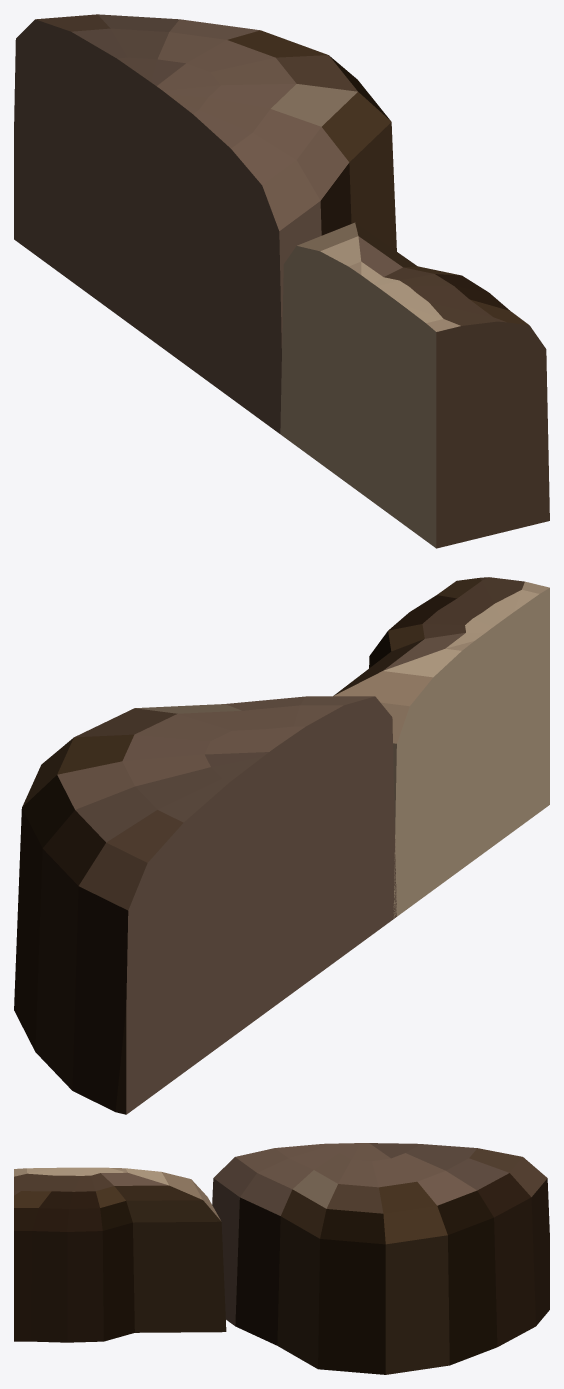
The model's file is newshr-157.glb.
3 renders of one model, top to bottom at view 1: azimuth 30°, elevation 25°; view 2: azimuth 150°, elevation 25°; view 3: azimuth 270°, elevation 25°, orthographic. The views are drawn at different scales.
Visible parts, largest first — view 1: newshr-157; view 2: newshr-157; view 3: newshr-157.
Boxes of the visible parts, bbox=[...] form: newshr-157: bbox=[14, 14, 549, 548]; newshr-157: bbox=[14, 577, 549, 1114]; newshr-157: bbox=[14, 1143, 549, 1374].
Size of the model in its own units: 0.7064 by 0.7849 by 2.33.
